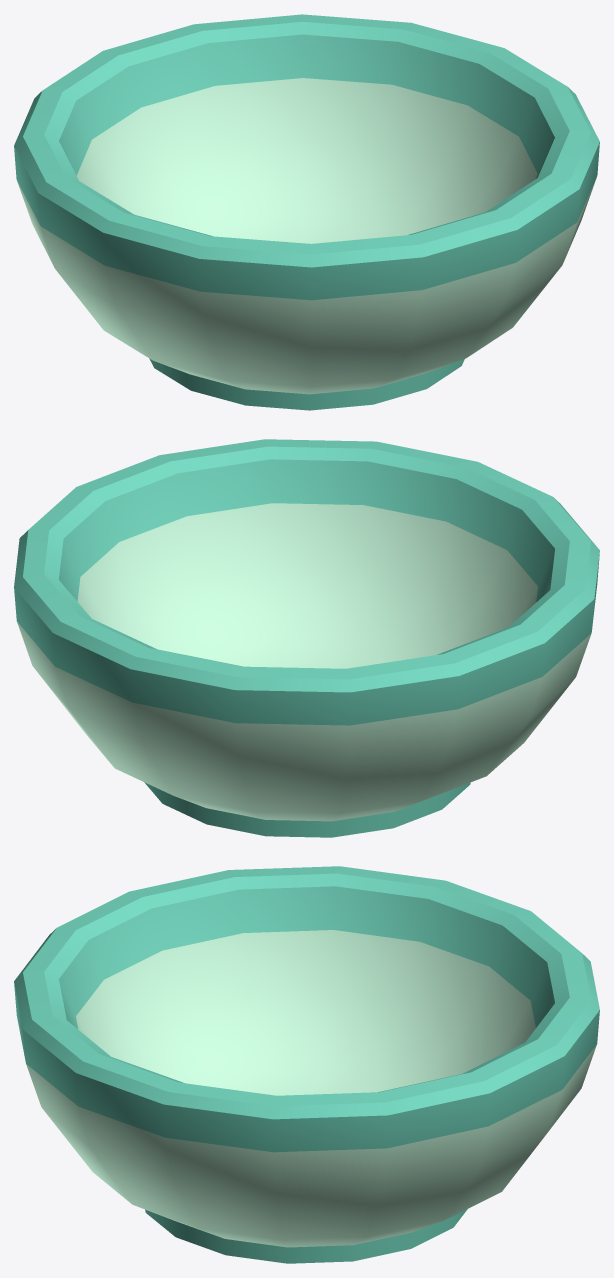
Rendered from Bowl_1_D.glb.
3 renders of one model, top to bottom at view 1: azimuth 30°, elevation 25°; view 2: azimuth 150°, elevation 25°; view 3: azimuth 270°, elevation 25°, orthographic.
Parts seen in each view (by area): view 1: Bowl_1_D; view 2: Bowl_1_D; view 3: Bowl_1_D.
Part boxes in pixels (left/top/right/bottom): Bowl_1_D: left=14, top=14, right=599, bottom=410; Bowl_1_D: left=14, top=439, right=599, bottom=837; Bowl_1_D: left=14, top=866, right=599, bottom=1263.
Size of the model in its own units: 0.4119 by 0.1643 by 0.4119.
Materials: 1 (1 with a texture image).
